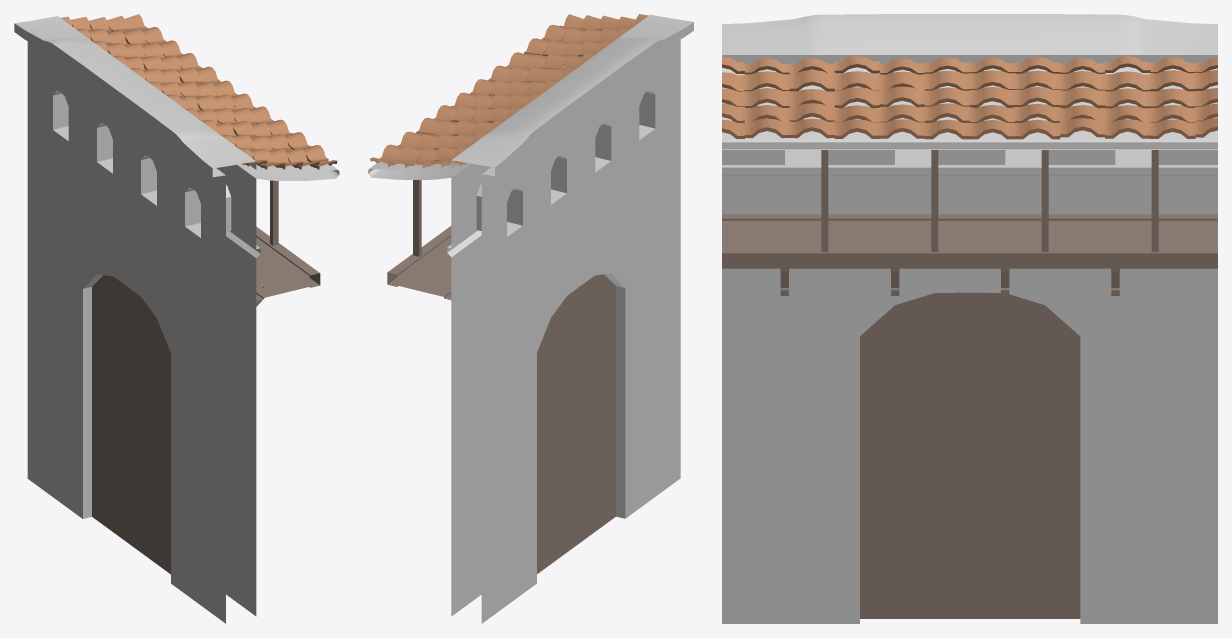
File: SM_CityWallGateModel.fbx
3 views of the same model, side by side, from view 1: azimuth 30°, elevation 25°; view 2: azimuth 150°, elevation 25°; view 3: azimuth 270°, elevation 25° (orthographic). The views are drawn at different scales.
Parts seen in each view (by area): view 1: Wall, Gate, MASH2_ReproMesh, Walkway, SupportBeam; view 2: Wall, Gate, MASH2_ReproMesh, Walkway, SupportBeam3; view 3: Wall, Gate, MASH2_ReproMesh, Walkway, SupportBeam, SupportBeam1, SupportBeam2, SupportBeam3.
Boxes of the visible parts, x1,y1,x2,y2 form: Wall: [14, 16, 339, 623]; Gate: [92, 275, 170, 574]; MASH2_ReproMesh: [60, 14, 337, 169]; Walkway: [256, 226, 320, 300]; SupportBeam: [270, 180, 278, 245]; Wall: [368, 14, 693, 623]; Gate: [537, 274, 615, 573]; MASH2_ReproMesh: [370, 14, 648, 168]; Walkway: [387, 226, 451, 299]; SupportBeam3: [413, 180, 421, 256]; Wall: [722, 14, 1217, 623]; Gate: [860, 292, 1080, 618]; MASH2_ReproMesh: [722, 56, 1217, 139]; Walkway: [722, 214, 1217, 268]; SupportBeam: [821, 150, 828, 251]; SupportBeam1: [931, 150, 938, 251]; SupportBeam2: [1041, 150, 1048, 251]; SupportBeam3: [1151, 150, 1158, 251].
Size of the model in its own units: 320 by 1126 by 867.
